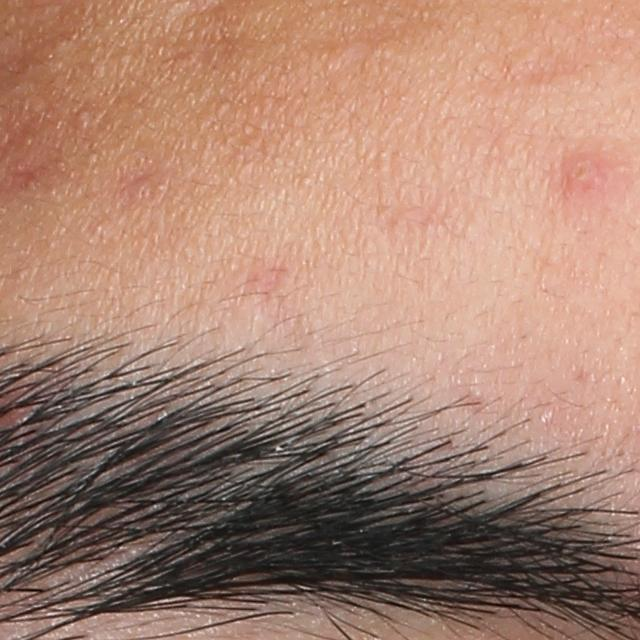comedo: (74, 108, 91, 122)
papule: (559, 138, 616, 193)
